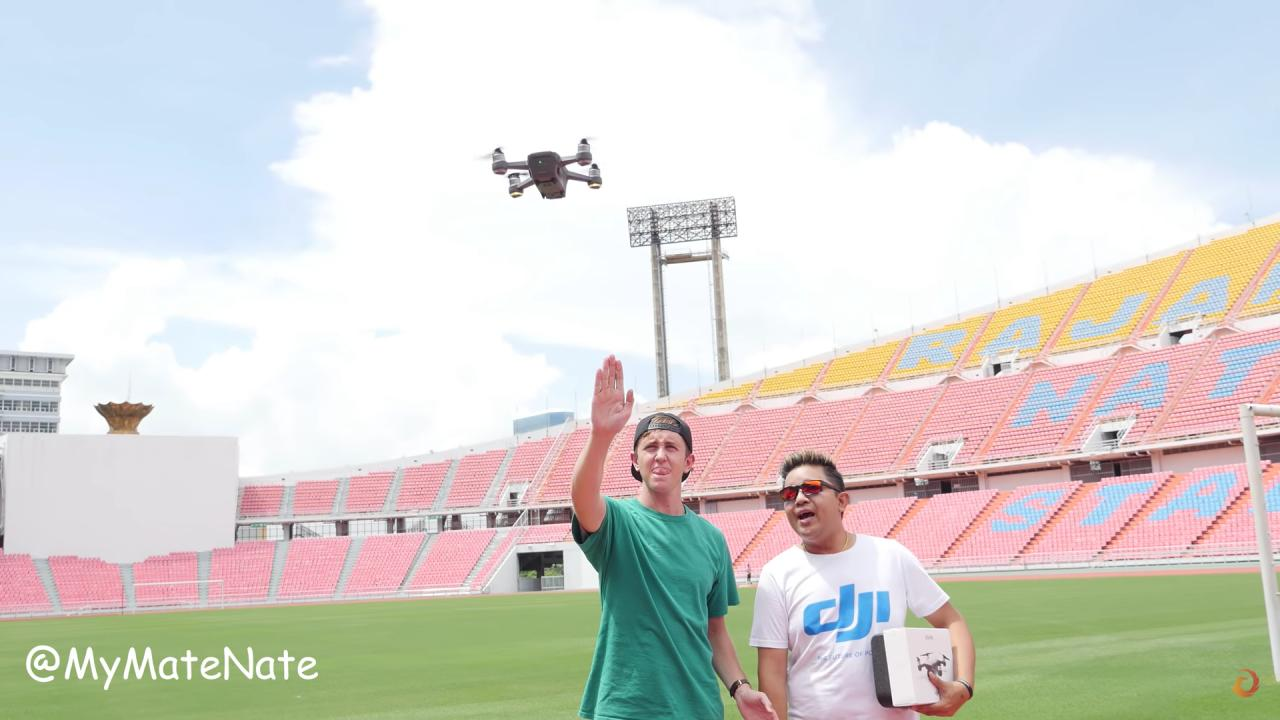Drone: (470, 127, 610, 214)
